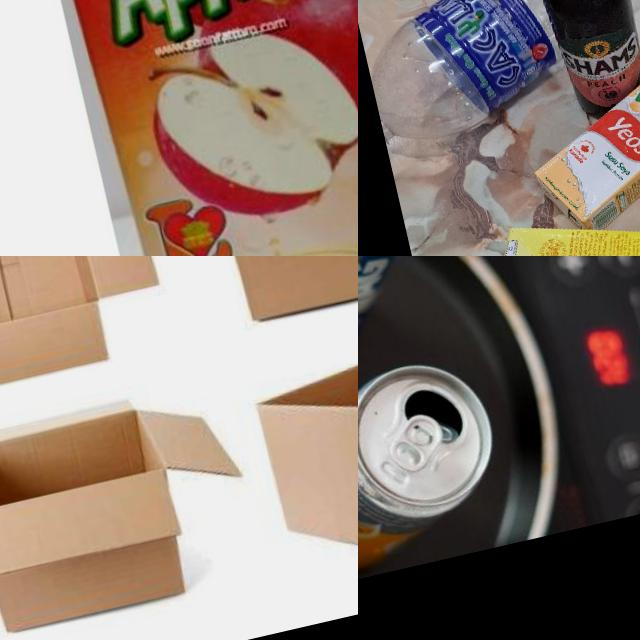aba de lata: (384, 410, 449, 474)
caixinha: (2, 0, 358, 256), (509, 53, 640, 232), (489, 184, 640, 256)
garrafa de vidro: (517, 0, 640, 127)
garrafa plástica: (0, 379, 260, 640), (358, 0, 640, 144), (248, 330, 358, 577), (0, 256, 175, 410)
lata: (358, 347, 517, 582), (358, 256, 458, 388)
